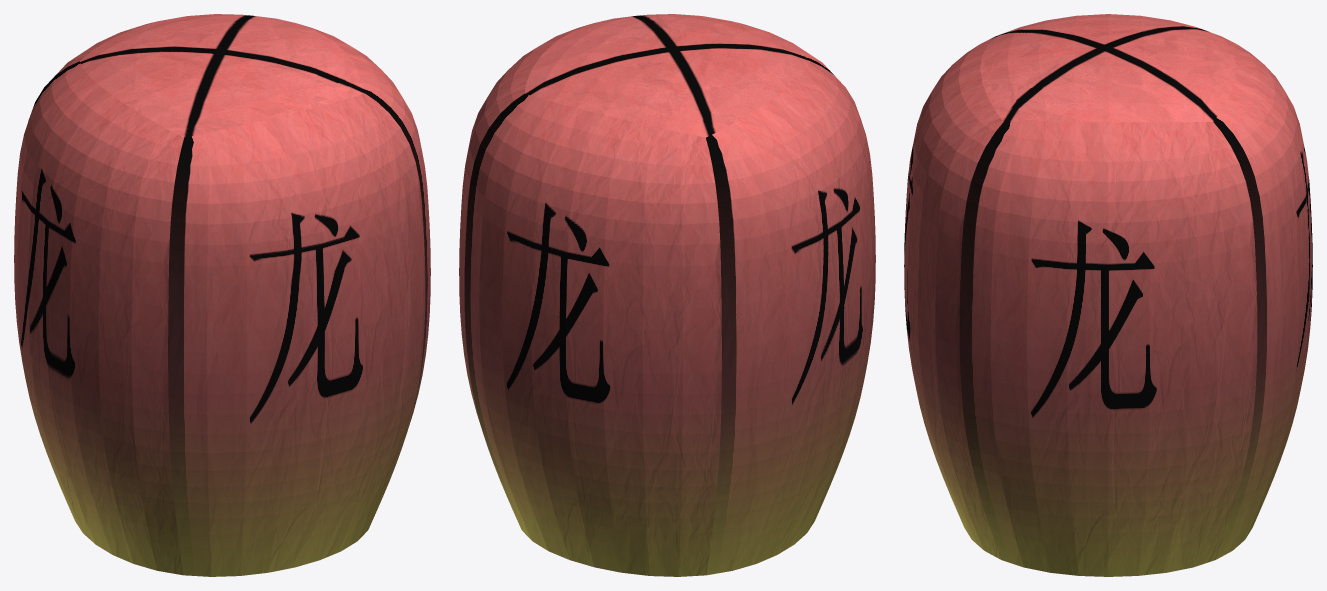
File: lanterna_volante.obj
3 views of the same model, side by side, from view 1: azimuth 30°, elevation 25°; view 2: azimuth 150°, elevation 25°; view 3: azimuth 270°, elevation 25° (orthographic).
Visible parts, largest first — view 1: lanterna_Cube.001; view 2: lanterna_Cube.001; view 3: lanterna_Cube.001.
Part boxes in pixels (<box>): lanterna_Cube.001: <box>14,14,430,576</box>; lanterna_Cube.001: <box>459,14,875,576</box>; lanterna_Cube.001: <box>904,14,1312,576</box>.
Bounding box in the file's own units: 1.55 × 1.94 × 1.55.
